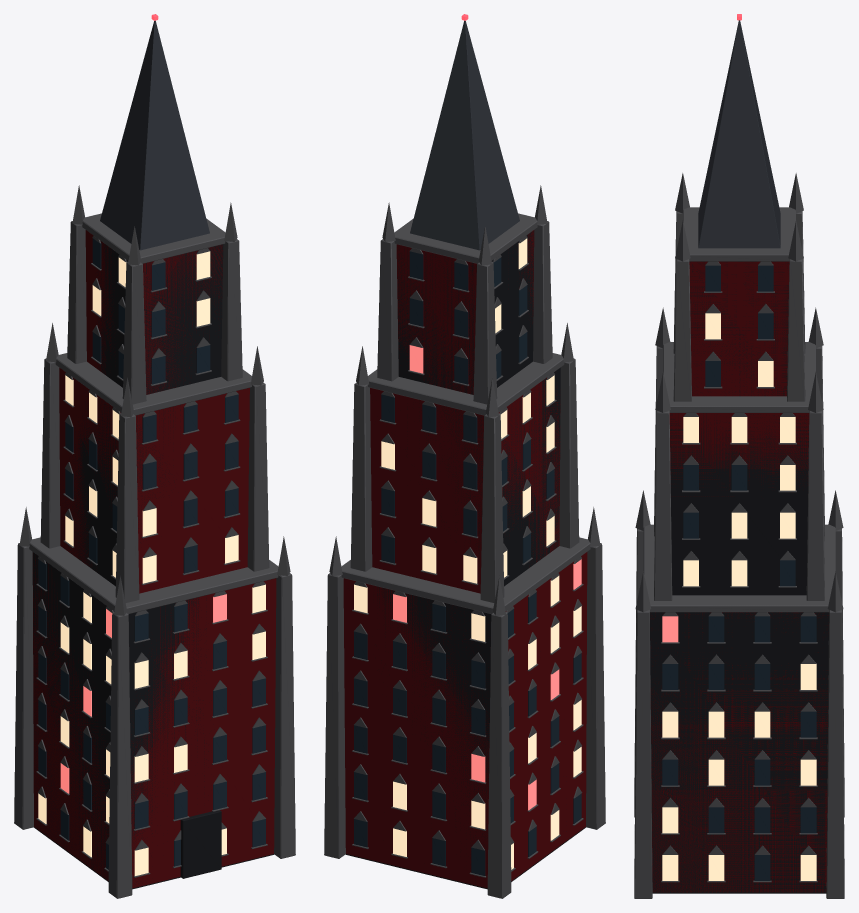
File: kit_gothic_tower.glb
3 renders of one model, left to right at view 1: azimuth 30°, elevation 25°; view 2: azimuth 150°, elevation 25°; view 3: azimuth 270°, elevation 25°, orthographic.
Parts seen in each view (by area): view 1: gt_tier0, gt_tier1, gt_tier0_COL, gt_spire, gt_tier40_COL, gt_tier2, gt_butt0-1-1, gt_butt01-1, gt_butt0-11, gt_tier24_COL, gt_cornice0, gt_butt1-1-1 (+9 smaller); view 2: gt_tier0, gt_tier1, gt_spire, gt_tier40_COL, gt_tier2, gt_tier0_COL, gt_tier24_COL, gt_butt0-11, gt_butt011, gt_butt0-1-1, gt_cornice0, gt_butt1-11 (+8 smaller); view 3: gt_tier0_COL, gt_tier0, gt_tier24_COL, gt_spire, gt_tier2, gt_tier1, gt_butt01-1, gt_butt011, gt_cornice0, gt_cornice1, gt_butt11-1, gt_butt111 (+37 smaller).
Boxes of the visible parts, x1,y1,x2,y2 form: gt_tier0: (32, 553, 276, 888); gt_tier1: (59, 367, 249, 593); gt_tier0_COL: (32, 552, 274, 889); gt_spire: (100, 20, 209, 250); gt_tier40_COL: (97, 241, 223, 394); gt_tier2: (85, 230, 223, 394); gt_butt0-1-1: (108, 612, 132, 898); gt_butt01-1: (274, 573, 295, 858); gt_butt0-11: (14, 543, 33, 829); gt_tier24_COL: (61, 389, 180, 586); gt_cornice0: (29, 537, 278, 614); gt_butt1-1-1: (115, 413, 139, 602); gt_tier0: (343, 552, 587, 888); gt_tier1: (370, 377, 560, 593); gt_spire: (410, 20, 519, 250); gt_tier40_COL: (397, 231, 534, 394); gt_tier2: (396, 230, 534, 394); gt_tier0_COL: (345, 586, 586, 889); gt_tier24_COL: (405, 367, 560, 586); gt_butt0-11: (487, 612, 511, 898); gt_butt011: (324, 573, 345, 858); gt_butt0-1-1: (586, 543, 605, 829); gt_cornice0: (341, 537, 590, 614); gt_butt1-11: (480, 413, 504, 602); gt_tier0_COL: (650, 612, 828, 893); gt_tier0: (650, 612, 828, 892); gt_tier24_COL: (670, 413, 808, 595); gt_spire: (698, 20, 780, 248); gt_tier2: (689, 261, 789, 396); gt_tier1: (669, 413, 809, 496); gt_butt01-1: (634, 610, 652, 898); gt_butt011: (826, 610, 844, 898); gt_cornice0: (643, 524, 835, 612); gt_cornice1: (663, 342, 815, 412); gt_butt11-1: (654, 410, 672, 600); gt_butt111: (806, 410, 824, 600).
Size of the model in its own units: 16 by 70.4 by 16.
Materials: 8 (8 with a texture image).
